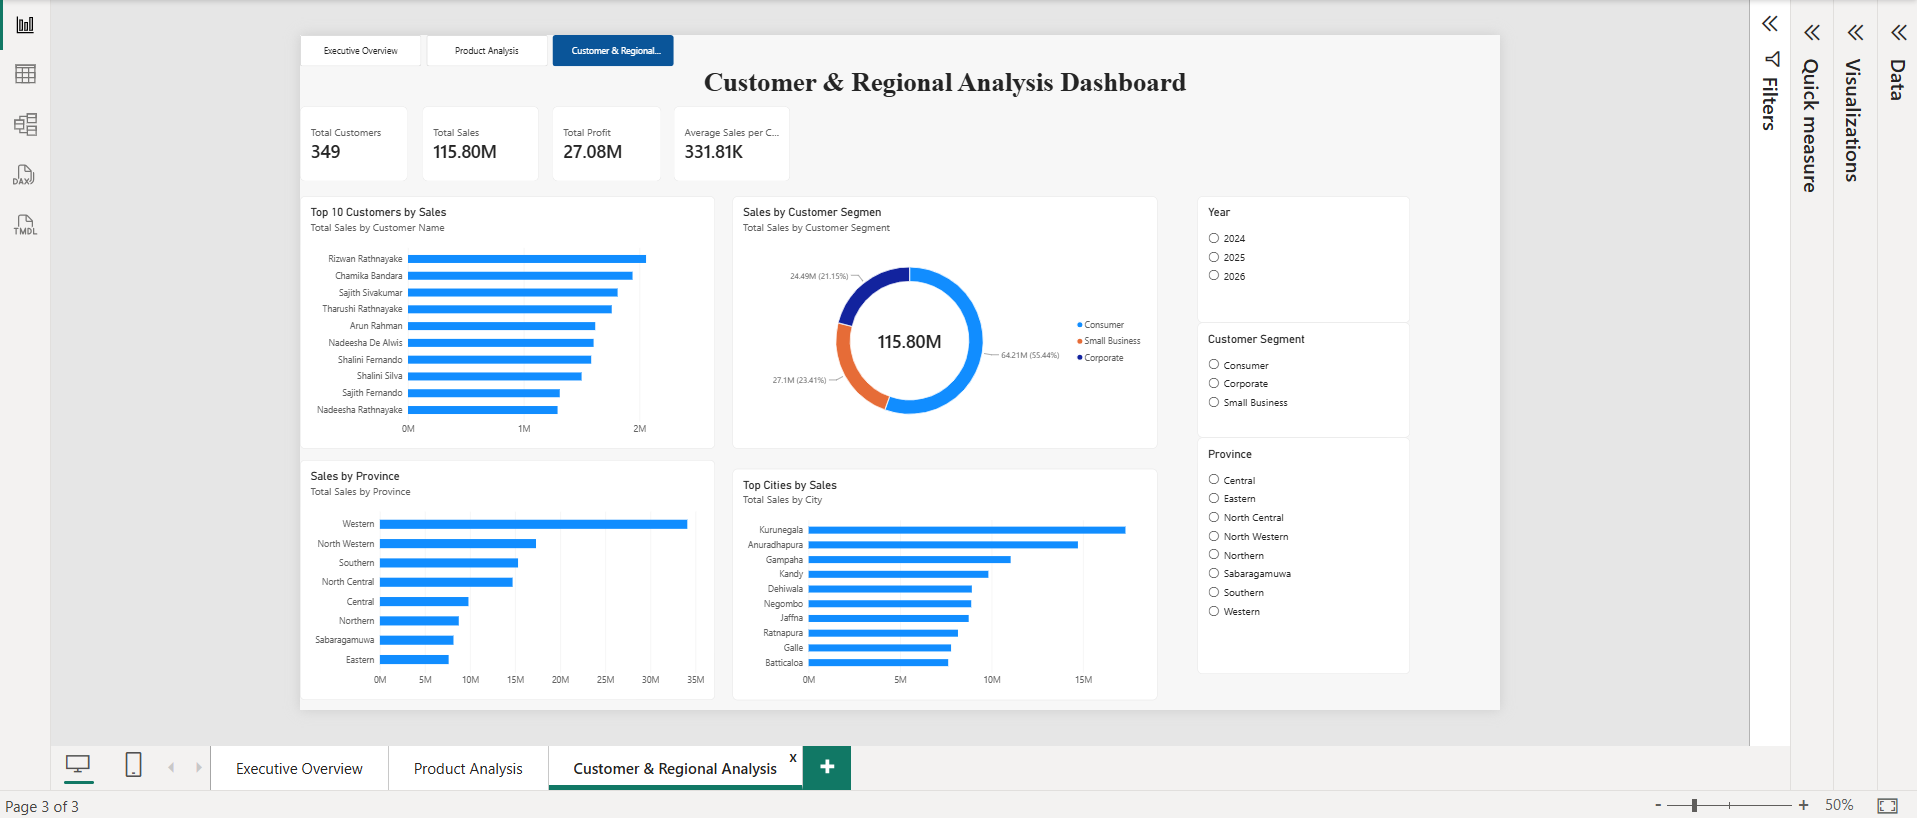

Layout of this report page (visuals, bound fields, positions):
{"tool":"powerbi","page":{"name":"Customer & Regional Analysis","canvas":[1920,1080],"ordinal":2},"visuals":[{"type":"textbox","box":[646,50,930,64],"z":0},{"type":"cardVisual","fields":{"Data":["Raw_Sales_Data.Total Customers"]},"box":[0,114,172,120],"z":1000},{"type":"cardVisual","fields":{"Data":["Raw_Sales_Data.Total Sales"]},"box":[196,114,186,120],"z":2000},{"type":"cardVisual","fields":{"Data":["Raw_Sales_Data.Total Profit"]},"box":[404,114,174,120],"z":3000},{"type":"cardVisual","fields":{"Data":["Raw_Sales_Data.Average Sales per Customer"]},"box":[598,114,186,120],"z":4000},{"type":"clusteredBarChart","title":"Top 10 Customers by Sales","fields":{"Category":["Raw_Sales_Data.Customer Name"],"Y":["Raw_Sales_Data.Total Sales"]},"box":[0,258,664,404],"z":5000},{"type":"clusteredBarChart","title":"Sales by Province","fields":{"Category":["Raw_Sales_Data.Province"],"Y":["Raw_Sales_Data.Total Sales"]},"box":[0,680,664,384],"z":6000},{"type":"donutChart","title":"Sales by Customer Segmen","fields":{"Category":["Raw_Sales_Data.Customer Segment"],"Y":["Raw_Sales_Data.Total Sales"]},"box":[692,258,680,404],"z":7000},{"type":"clusteredBarChart","title":"Top Cities by Sales","fields":{"Category":["Raw_Sales_Data.City"],"Y":["Raw_Sales_Data.Total Sales"]},"box":[692,694,680,370],"z":8000},{"type":"listSlicer","fields":{"Values":["Raw_Sales_Data.Order Date.Variation.Date Hierarchy.Year"]},"box":[1436,258,340,202],"z":9000},{"type":"listSlicer","fields":{"Values":["Raw_Sales_Data.Province"]},"box":[1436,644,340,378],"z":10000},{"type":"listSlicer","fields":{"Values":["Raw_Sales_Data.Customer Segment"]},"box":[1436,460,340,184],"z":11000},{"type":"pageNavigator","box":[0,0,600,50],"z":12000}]}

Visuals, with their boxes on the page's 1920x1080 design canvas (x1, y1, x2, y2). These are canvas units, not pixel positions in the 1917x818 screenshot, which may show the page scaled, cropped or inside an application window:
textbox: x1=646, y1=50, x2=1576, y2=114
cardVisual - Raw_Sales_Data.Total Customers: x1=0, y1=114, x2=172, y2=234
cardVisual - Raw_Sales_Data.Total Sales: x1=196, y1=114, x2=382, y2=234
cardVisual - Raw_Sales_Data.Total Profit: x1=404, y1=114, x2=578, y2=234
cardVisual - Raw_Sales_Data.Average Sales per Customer: x1=598, y1=114, x2=784, y2=234
"Top 10 Customers by Sales" clusteredBarChart: x1=0, y1=258, x2=664, y2=662
"Sales by Province" clusteredBarChart: x1=0, y1=680, x2=664, y2=1064
"Sales by Customer Segmen" donutChart: x1=692, y1=258, x2=1372, y2=662
"Top Cities by Sales" clusteredBarChart: x1=692, y1=694, x2=1372, y2=1064
listSlicer - Raw_Sales_Data.Order Date.Variation.Date Hierarchy.Year: x1=1436, y1=258, x2=1776, y2=460
listSlicer - Raw_Sales_Data.Province: x1=1436, y1=644, x2=1776, y2=1022
listSlicer - Raw_Sales_Data.Customer Segment: x1=1436, y1=460, x2=1776, y2=644
pageNavigator: x1=0, y1=0, x2=600, y2=50
